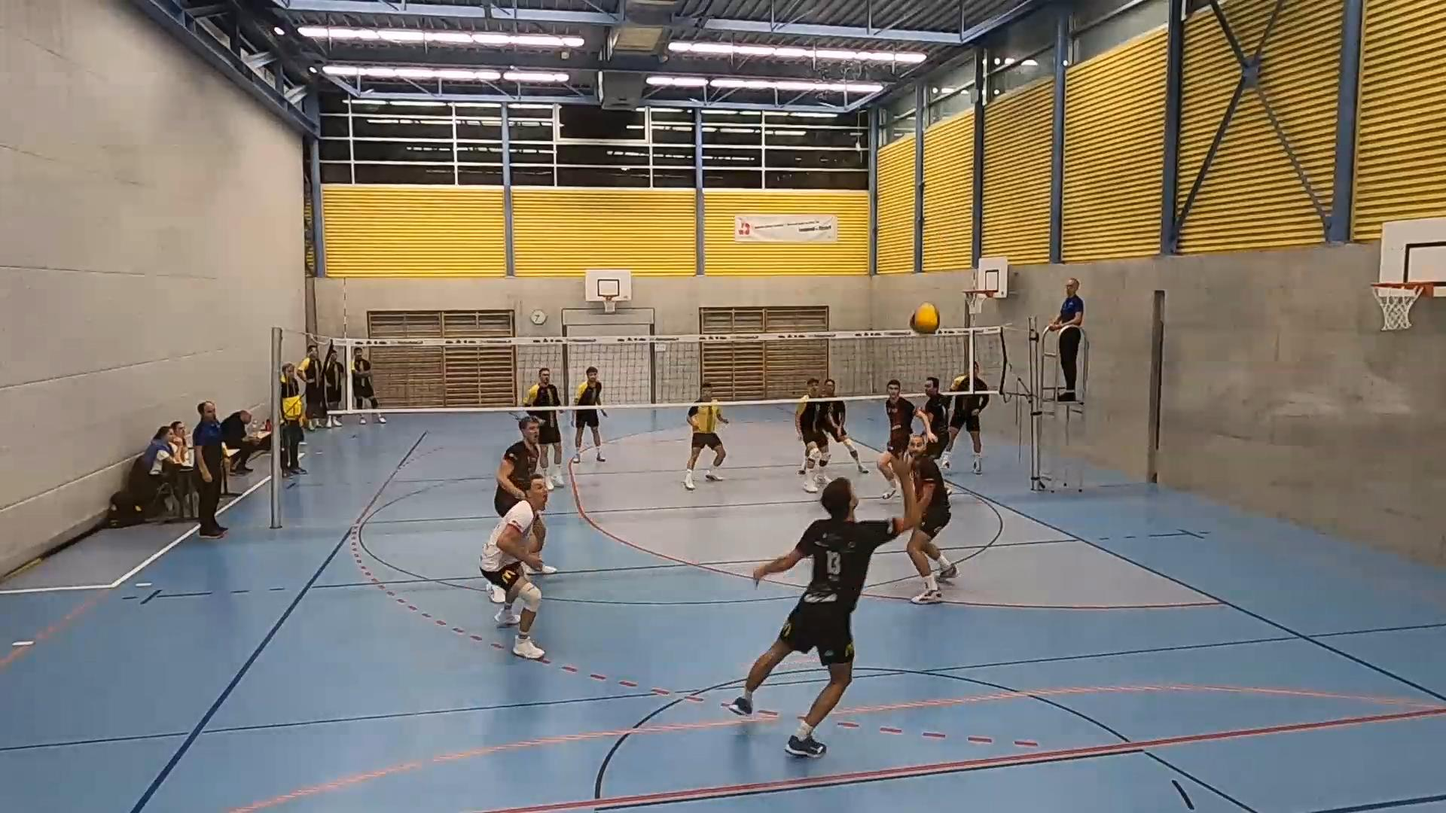Dig: (733, 473, 931, 737)
Player: (480, 473, 548, 659), (906, 434, 956, 604), (941, 362, 989, 473), (877, 379, 917, 498), (684, 382, 728, 490), (494, 417, 540, 516), (795, 377, 828, 492), (822, 400, 867, 473), (572, 368, 605, 463), (530, 409, 563, 489), (920, 376, 948, 458)
ball: (909, 303, 942, 337)
